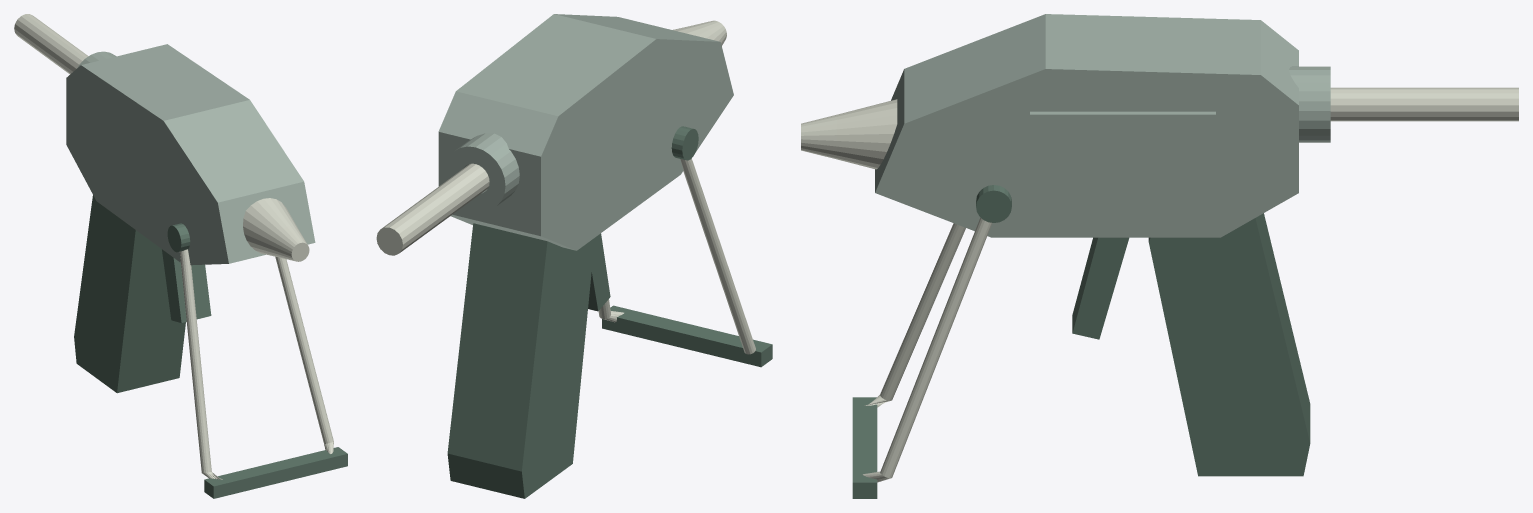
3 views of the same model, side by side, from view 1: azimuth 30°, elevation 25°; view 2: azimuth 150°, elevation 25°; view 3: azimuth 270°, elevation 25° (orthographic). The views are drawn at different scales.
Parts seen in each view (by area): view 1: WholeSteppedWedgeHousing, WholeCantedGripAndFlatHeel, WholeContinuousBentWireSupportBail, WholeFlatFrontStandFoot, WholeShortBluntFrontNozzle, WholeOpaqueFixedRearFeedStick, WholeFixedTrigger, WholeStandSidePivotCap_-1; view 2: WholeSteppedWedgeHousing, WholeCantedGripAndFlatHeel, WholeFlatFrontStandFoot, WholeOpaqueFixedRearFeedStick, WholeRearFeedCollar, WholeContinuousBentWireSupportBail, WholeFixedTrigger, WholeStandSidePivotCap_-1, WholeShortBluntFrontNozzle; view 3: WholeSteppedWedgeHousing, WholeCantedGripAndFlatHeel, WholeBlankSidePlate, WholeContinuousBentWireSupportBail, WholeOpaqueFixedRearFeedStick, WholeShortBluntFrontNozzle, WholeFixedTrigger, WholeRearFeedCollar, WholeFlatFrontStandFoot, WholeStandSidePivotCap_1.
Part boxes in pixels (box(x1,y1,x2,y2)): WholeSteppedWedgeHousing: box(66, 44, 315, 265); WholeCantedGripAndFlatHeel: box(74, 195, 185, 393); WholeContinuousBentWireSupportBail: box(179, 249, 333, 479); WholeFlatFrontStandFoot: box(204, 447, 347, 498); WholeShortBluntFrontNozzle: box(243, 198, 309, 261); WholeOpaqueFixedRearFeedStick: box(14, 14, 88, 74); WholeFixedTrigger: box(162, 249, 211, 322); WholeStandSidePivotCap_-1: box(167, 223, 190, 252); WholeSteppedWedgeHousing: box(438, 14, 733, 250); WholeCantedGripAndFlatHeel: box(447, 223, 594, 498); WholeFlatFrontStandFoot: box(602, 305, 772, 367); WholeOpaqueFixedRearFeedStick: box(376, 163, 489, 255); WholeRearFeedCollar: box(445, 133, 519, 210); WholeContinuousBentWireSupportBail: box(598, 158, 755, 354); WholeFixedTrigger: box(588, 233, 610, 311); WholeStandSidePivotCap_-1: box(671, 126, 698, 160); WholeShortBluntFrontNozzle: box(673, 20, 726, 45); WholeSteppedWedgeHousing: box(875, 14, 1298, 237); WholeCantedGripAndFlatHeel: box(1148, 213, 1310, 476); WholeBlankSidePlate: box(1030, 111, 1215, 175); WholeContinuousBentWireSupportBail: box(863, 217, 992, 482); WholeOpaqueFixedRearFeedStick: box(1330, 87, 1518, 121); WholeShortBluntFrontNozzle: box(801, 99, 897, 169); WholeFixedTrigger: box(1072, 237, 1129, 339); WholeRearFeedCollar: box(1289, 66, 1330, 142); WholeFlatFrontStandFoot: box(852, 397, 877, 498); WholeStandSidePivotCap_1: box(976, 185, 1011, 222).
Bounding box in the file's own units: 0.09 × 0.204 × 0.32.
